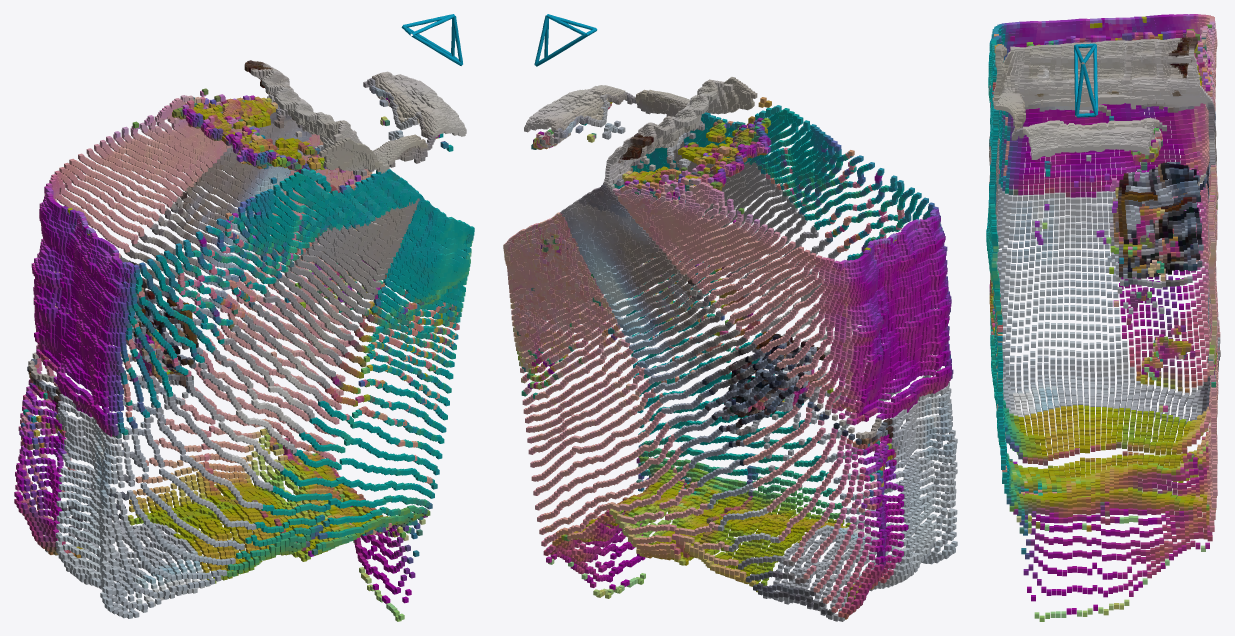
File: pred_0-compressed.glb
The picture shows the model from 3 angles, left to right: view 1: azimuth 30°, elevation 25°; view 2: azimuth 150°, elevation 25°; view 3: azimuth 270°, elevation 25°; orthographic projection. The views are drawn at different scales.
Bounding box in the file's own units: 4.93 × 6.83 × 2.43.
